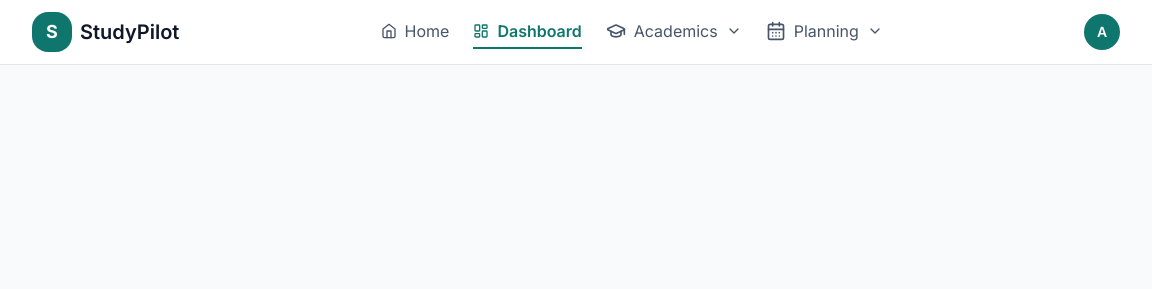
Scenario: Header desktop grouped navigation (EP11A) › shows account menu contents for an unverified user
The image size is (1152, 289).
Click the button named "Open account menu" at {"x": 1102, "y": 32}, box [1084,14,1120,50]
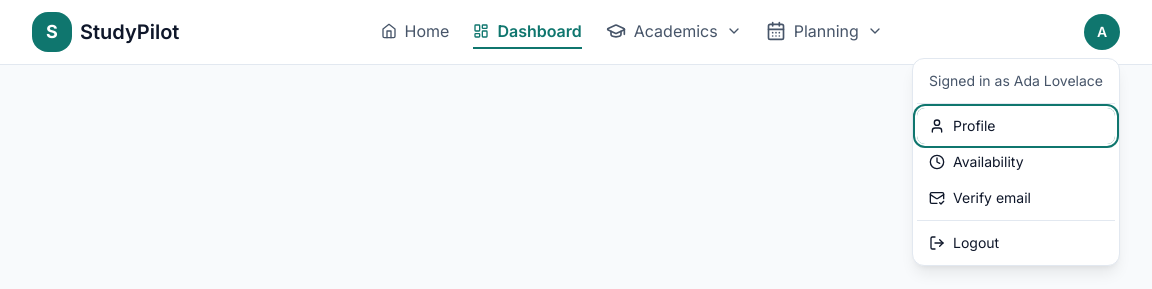
Expected: the text "Signed in as Ada Lovelace" is shown, [929,71,1103,91]
Expected: the menu item "Logout" is shown, [917,225,1115,261]
